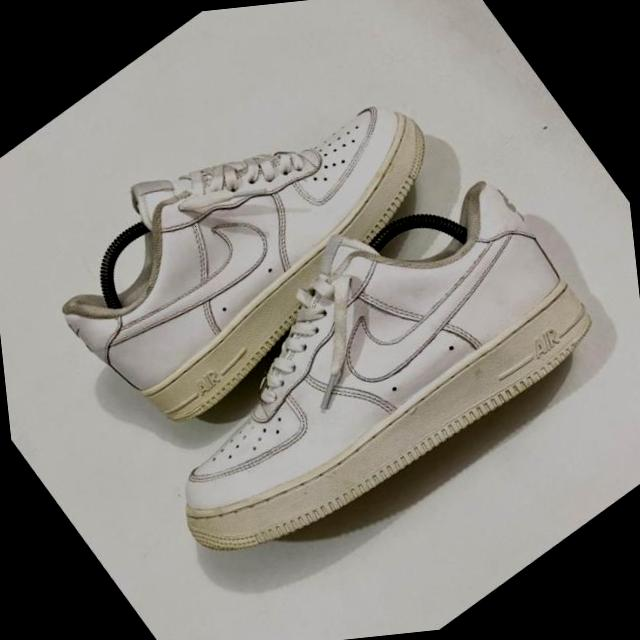nike_original_airforce: (74, 130, 634, 616), (1, 16, 508, 464)
